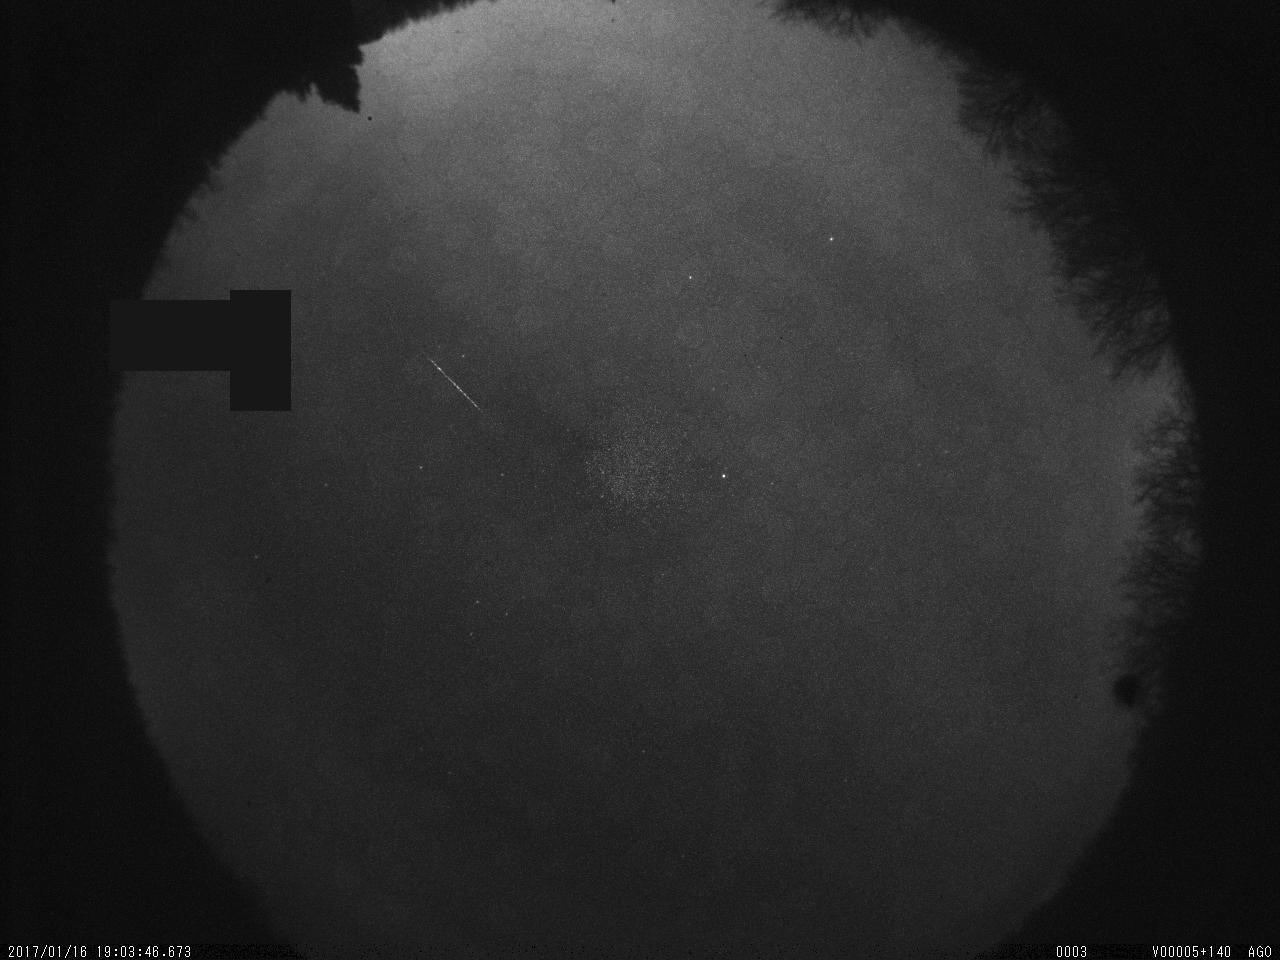meteor: (416, 339, 503, 432)
